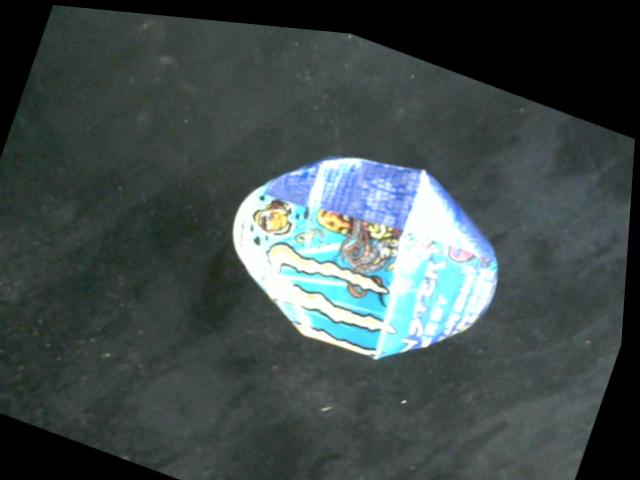can: (227, 140, 508, 362)
